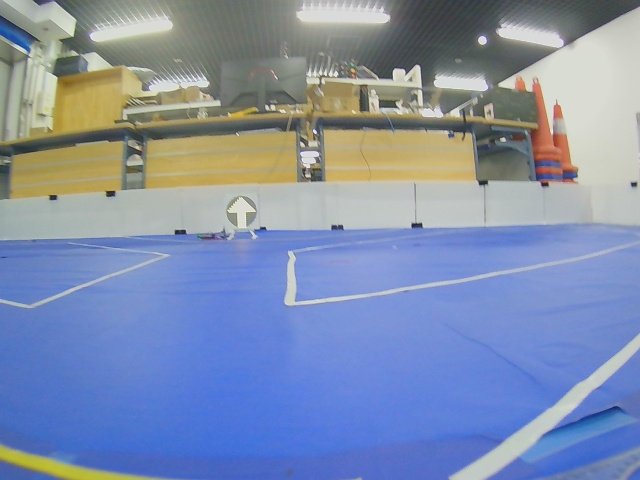straight_yellow: (226, 196, 257, 229)
